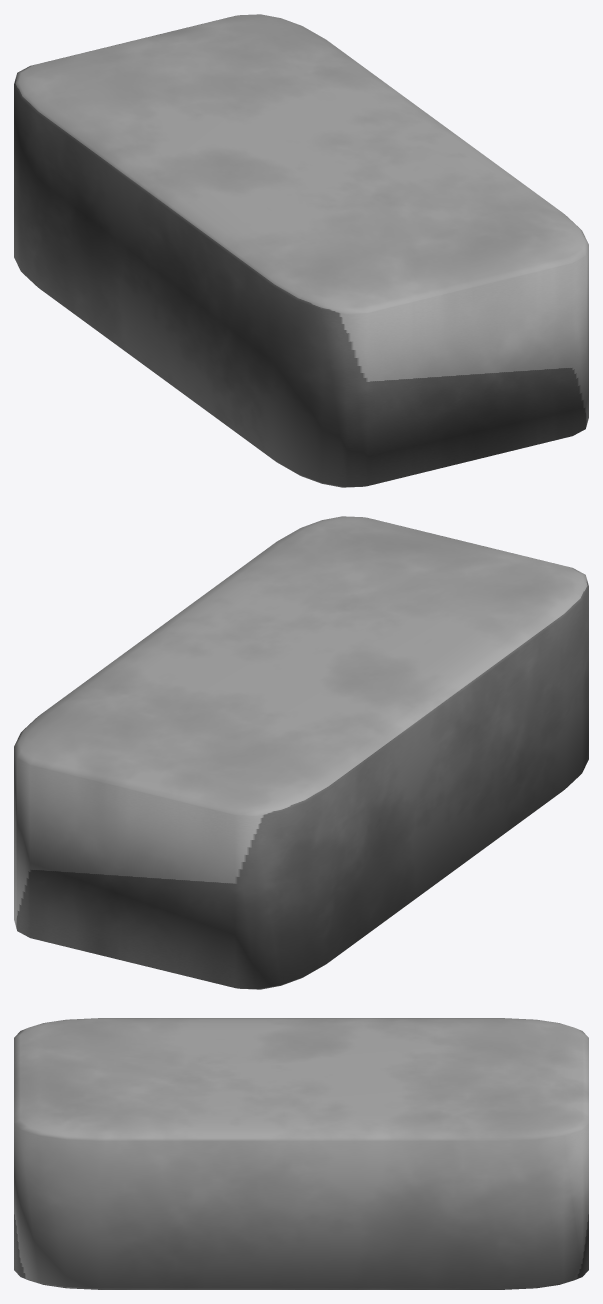
Rendered from Meja Dapur.fbx.
The picture shows the model from 3 angles, top to bottom: view 1: azimuth 30°, elevation 25°; view 2: azimuth 150°, elevation 25°; view 3: azimuth 270°, elevation 25°; orthographic projection. The views are drawn at different scales.
Parts seen in each view (by area): view 1: Cube.049; view 2: Cube.049; view 3: Cube.049.
Boxes of the visible parts, box(x1,y1,x2,y2) form: Cube.049: box(14, 14, 588, 487); Cube.049: box(14, 516, 588, 989); Cube.049: box(14, 1018, 588, 1289).
Bounding box in the file's own units: 100 × 62.48 × 200.
